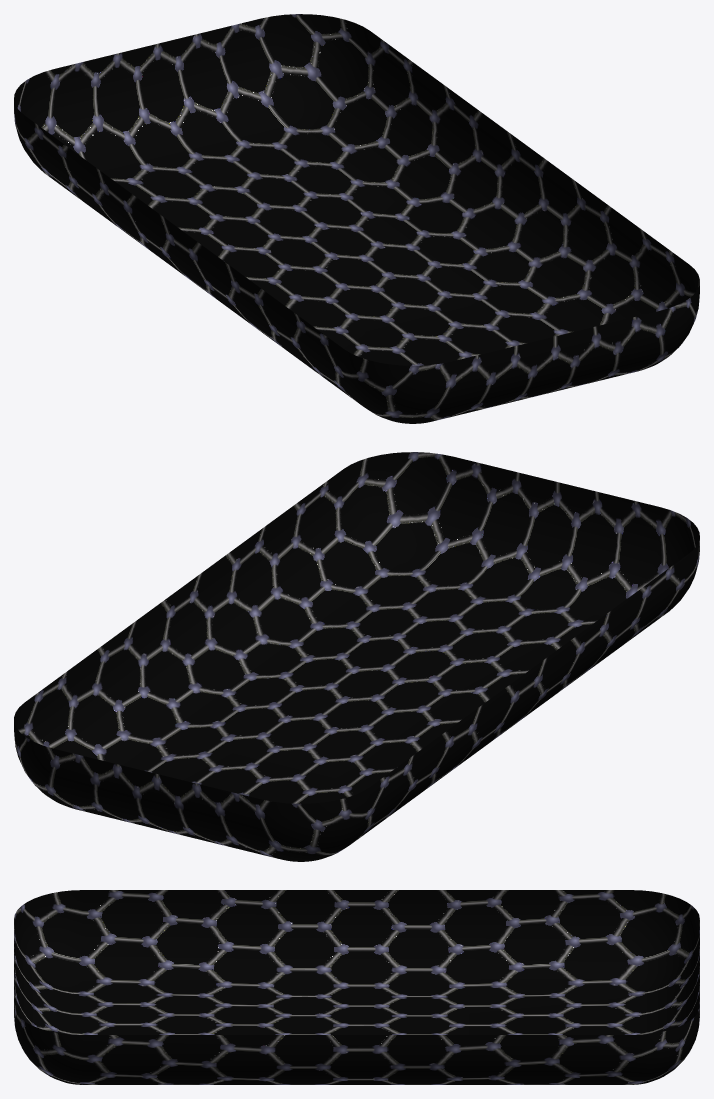
File: Dome_Collider.fbx
3 renders of one model, top to bottom at view 1: azimuth 30°, elevation 25°; view 2: azimuth 150°, elevation 25°; view 3: azimuth 270°, elevation 25°, orthographic. The views are drawn at different scales.
Visible parts, largest first — view 1: ChamferBox001; view 2: ChamferBox001; view 3: ChamferBox001.
Part boxes in pixels (bbox=[...]): ChamferBox001: bbox=[14, 14, 699, 423]; ChamferBox001: bbox=[14, 452, 699, 861]; ChamferBox001: bbox=[14, 890, 699, 1084].
Bounding box in the file's own units: 2 × 0.4673 × 4.
